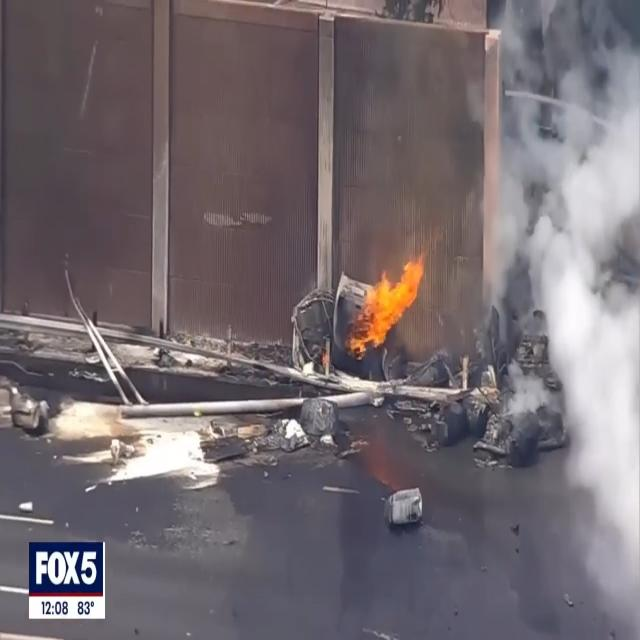fire: (346, 254, 434, 363)
